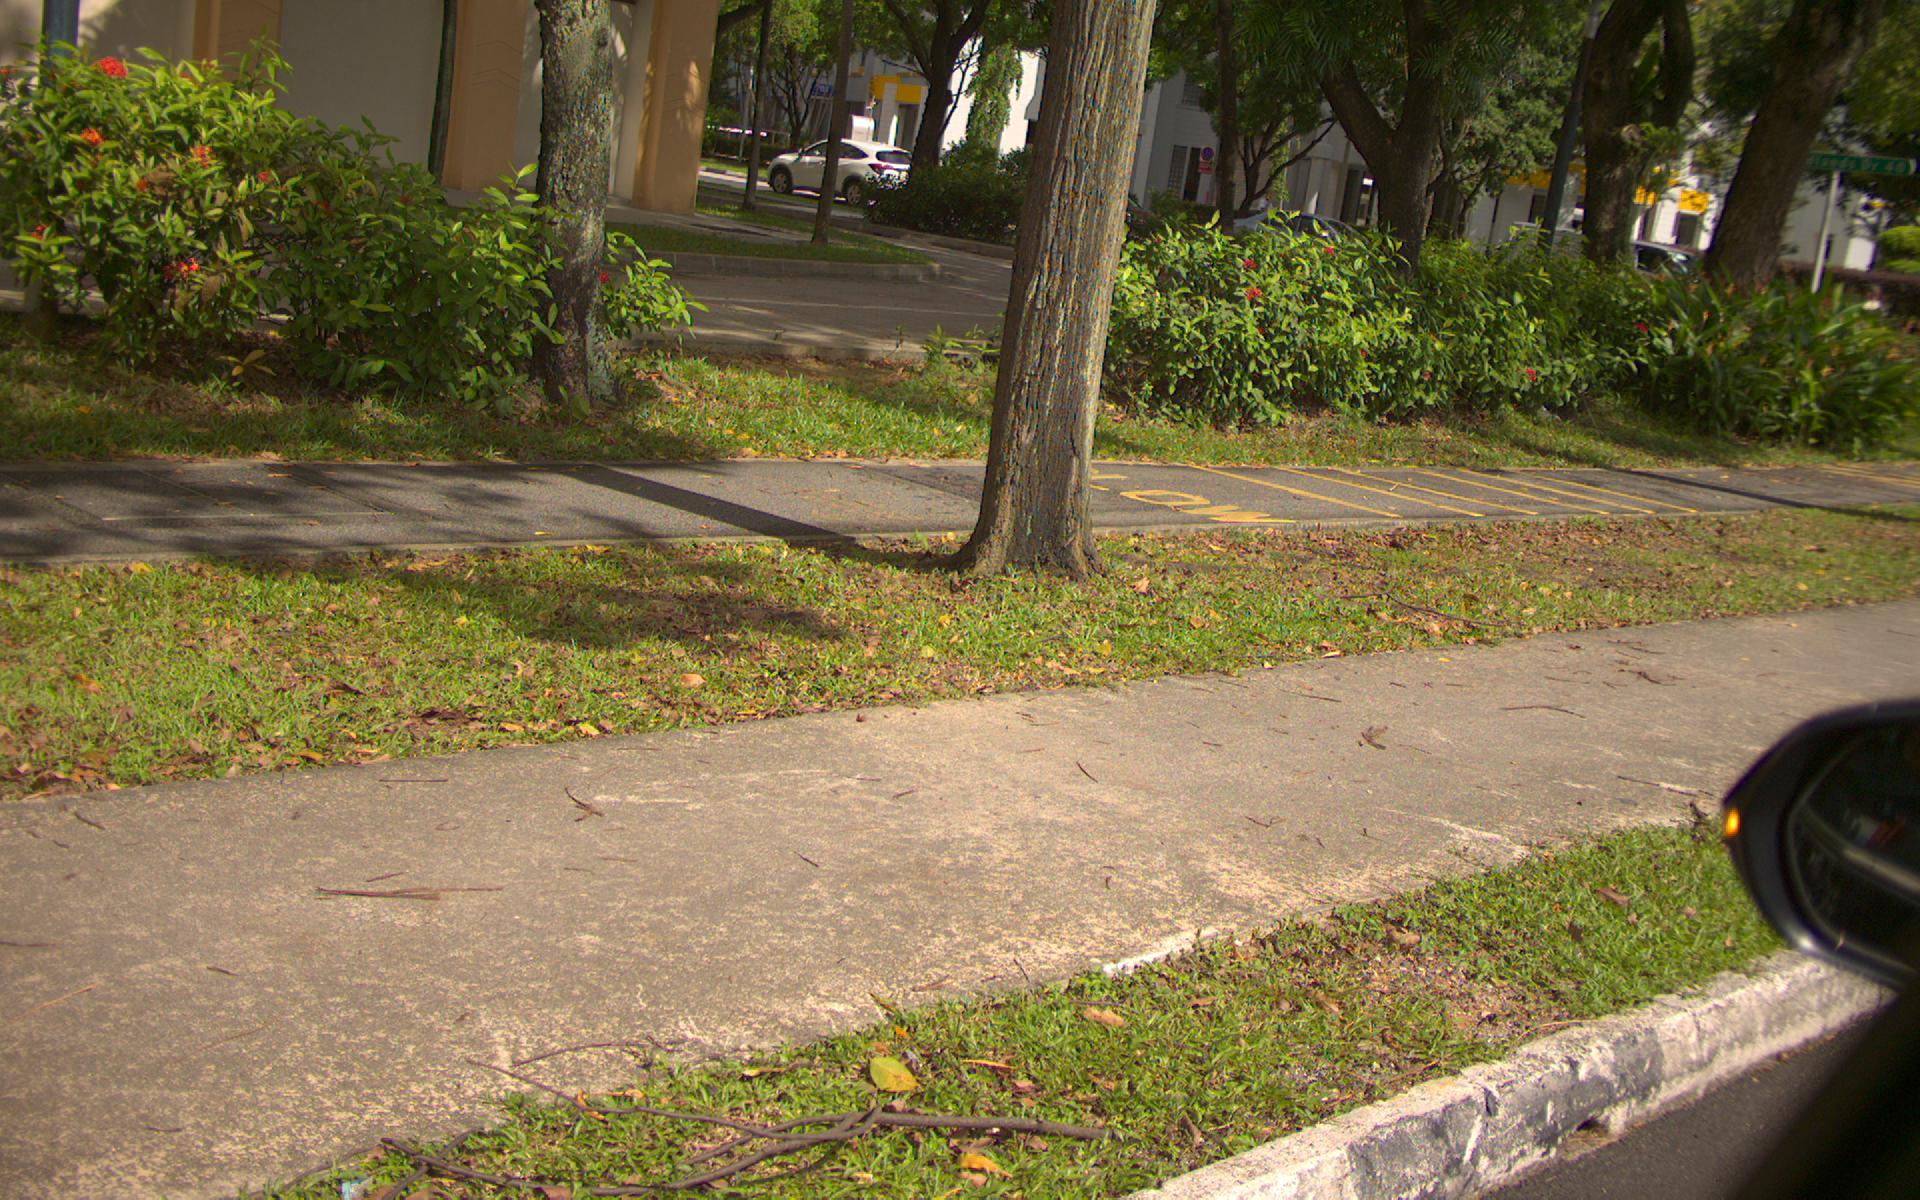pathway_low: (8, 795, 905, 1027), (908, 701, 1534, 875), (1, 465, 1920, 514)
road_turf_low: (1, 552, 970, 690), (1117, 532, 1920, 608)
